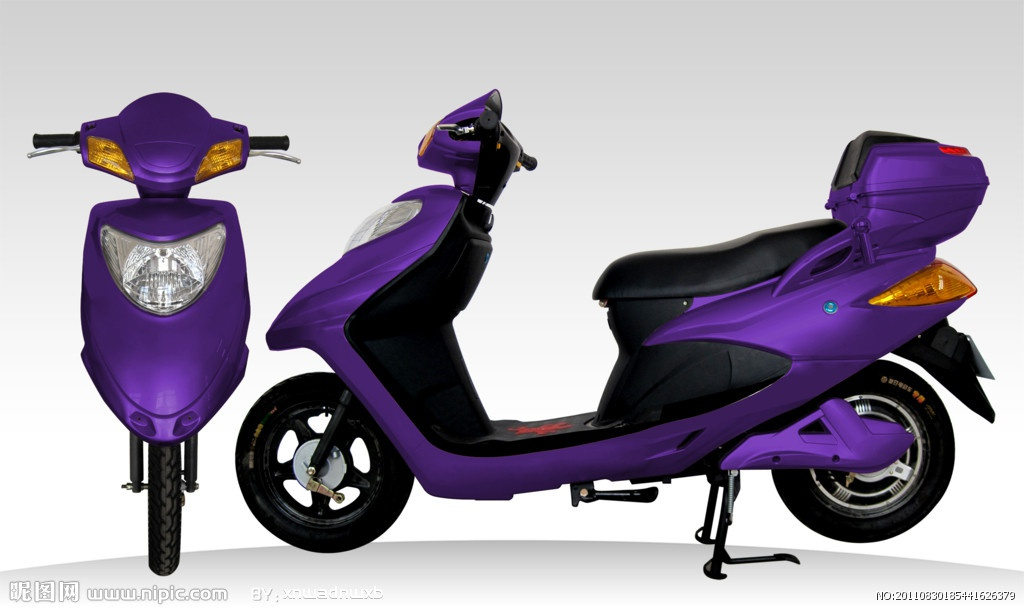non-vehicle: (236, 91, 993, 559), (31, 92, 292, 575)
